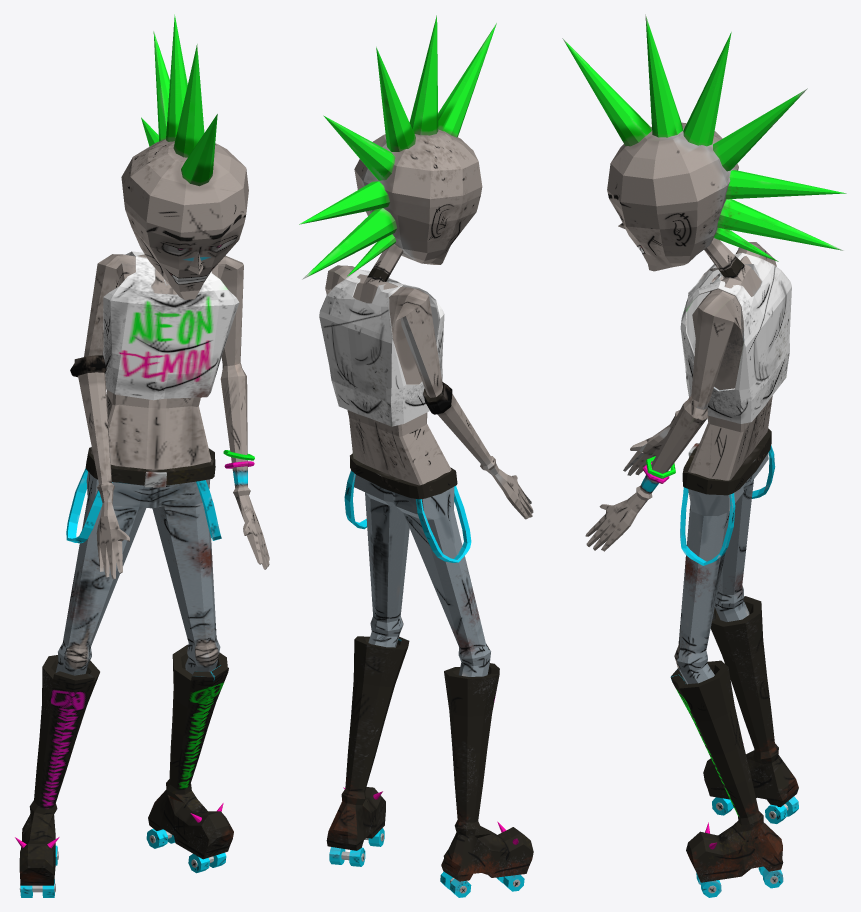
File: punkAnimation_000003.obj
3 renders of one model, left to right at view 1: azimuth 30°, elevation 25°; view 2: azimuth 150°, elevation 25°; view 3: azimuth 270°, elevation 25°, orthographic. The views are drawn at different scales.
Parts seen in each view (by area): view 1: Cube.004_Cube.003; view 2: Cube.004_Cube.003; view 3: Cube.004_Cube.003.
Part boxes in pixels (x1,y1,x2,y2): Cube.004_Cube.003: (15,14,269,897); Cube.004_Cube.003: (299,15,533,897); Cube.004_Cube.003: (562,14,846,897).
Size of the model in its own units: 2 by 7.5 by 2.26.
